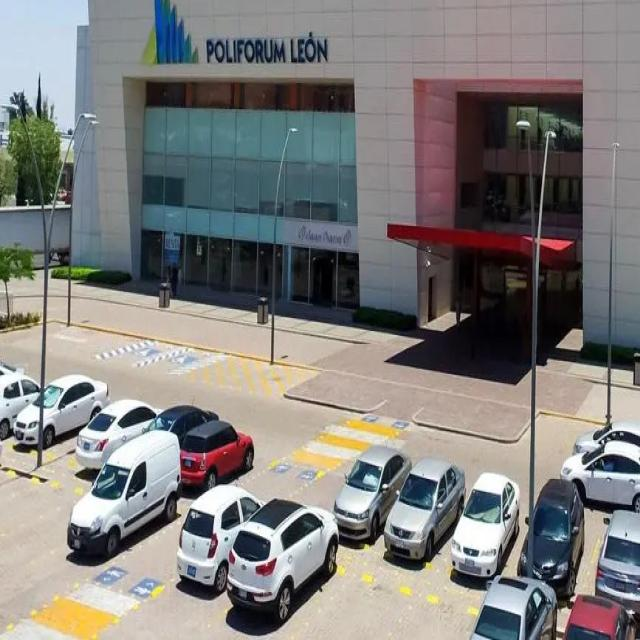discapacitados: (253, 407, 413, 495), (68, 555, 179, 625), (101, 333, 231, 376)
ocupado: (171, 420, 639, 639)
